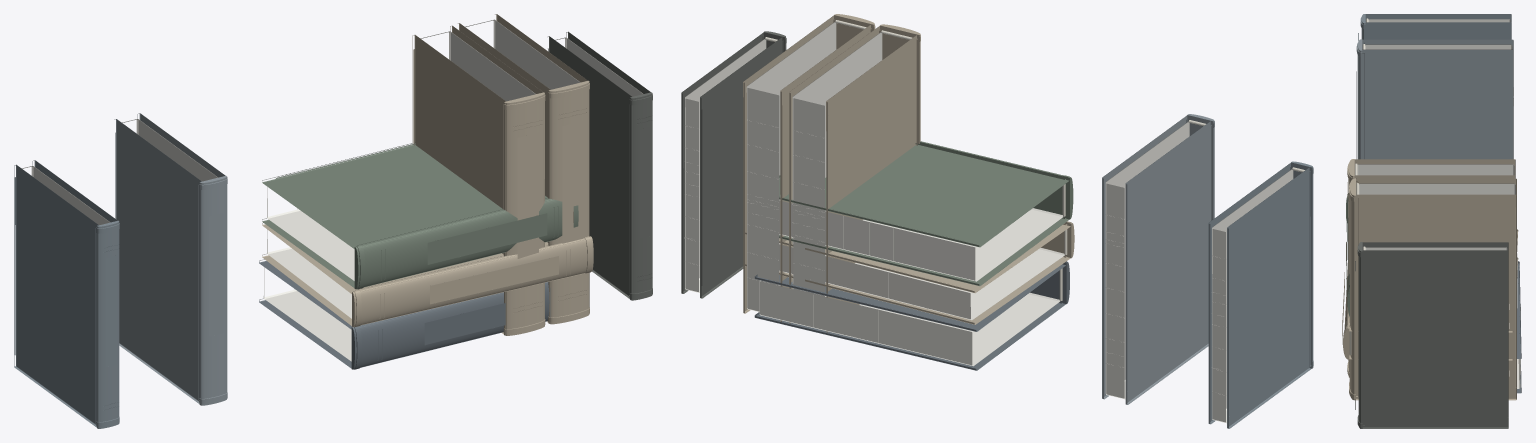
Rendered from X14_LRS1953_BOOKS_S00_bk2.glb.
3 views of the same model, side by side, from view 1: azimuth 30°, elevation 25°; view 2: azimuth 150°, elevation 25°; view 3: azimuth 270°, elevation 25° (orthographic). The views are drawn at different scales.
Parts seen in each view (by area): view 1: S03_LEGISLATIVE_ACTIVE_A_S03_LEGISLATIVE_ACTIVE_B05_book_01_ (×5), S03_LEGISLATIVE_ACTIVE_A_S03_LEGISLATIVE_ACTIVE_B08_book_05_ (×5), S03_LEGISLATIVE_ACTIVE_A_S03_LEGISLATIVE_ACTIVE_B03_book_03_ (×6), S03_LEGISLATIVE_ACTIVE_A_S03_LEGISLATIVE_ACTIVE_B09_book_05_ (×5), S03_LEGISLATIVE_ACTIVE_A_S03_LEGISLATIVE_ACTIVE_B12_book_03_ (×5), S03_LEGISLATIVE_ACTIVE_A_S03_LEGISLATIVE_ACTIVE_B07_book_02_ (×5), S03_LEGISLATIVE_ACTIVE_A_S03_LEGISLATIVE_ACTIVE_B10_book_05_ (×5), S03_LEGISLATIVE_ACTIVE_A_S03_LEGISLATIVE_ACTIVE_B06_book_05_ (×5); view 2: S03_LEGISLATIVE_ACTIVE_A_S03_LEGISLATIVE_ACTIVE_B05_book_01_ (×3), S03_LEGISLATIVE_ACTIVE_A_S03_LEGISLATIVE_ACTIVE_B08_book_05_ (×4), S03_LEGISLATIVE_ACTIVE_A_S03_LEGISLATIVE_ACTIVE_B03_book_03_ (×4), S03_LEGISLATIVE_ACTIVE_A_S03_LEGISLATIVE_ACTIVE_B09_book_05_ (×4), S03_LEGISLATIVE_ACTIVE_A_S03_LEGISLATIVE_ACTIVE_B12_book_03_ (×3), S03_LEGISLATIVE_ACTIVE_A_S03_LEGISLATIVE_ACTIVE_B06_book_05_ (×4), S03_LEGISLATIVE_ACTIVE_A_S03_LEGISLATIVE_ACTIVE_B10_book_05_ (×4), S03_LEGISLATIVE_ACTIVE_A_S03_LEGISLATIVE_ACTIVE_B07_book_02_ (×3); view 3: S03_LEGISLATIVE_ACTIVE_A_S03_LEGISLATIVE_ACTIVE_B12_book_03_ (×7), S03_LEGISLATIVE_ACTIVE_A_S03_LEGISLATIVE_ACTIVE_B05_book_01_ (×7), S03_LEGISLATIVE_ACTIVE_A_S03_LEGISLATIVE_ACTIVE_B10_book_05_ (×7), S03_LEGISLATIVE_ACTIVE_A_S03_LEGISLATIVE_ACTIVE_B03_book_03_ (×3), S03_LEGISLATIVE_ACTIVE_A_S03_LEGISLATIVE_ACTIVE_B09_book_05_ (×4), S03_LEGISLATIVE_ACTIVE_A_S03_LEGISLATIVE_ACTIVE_B07_book_02_, S03_LEGISLATIVE_ACTIVE_A_S03_LEGISLATIVE_ACTIVE_B06_book_05_, S03_LEGISLATIVE_ACTIVE_A_S03_LEGISLATIVE_ACTIVE_B08_book_05_.
Part boxes in pixels (x1=…): S03_LEGISLATIVE_ACTIVE_A_S03_LEGISLATIVE_ACTIVE_B05_book_01_ (×5): x1=114, y1=113, x2=227, y2=405; S03_LEGISLATIVE_ACTIVE_A_S03_LEGISLATIVE_ACTIVE_B08_book_05_ (×5): x1=262, y1=143, x2=562, y2=289; S03_LEGISLATIVE_ACTIVE_A_S03_LEGISLATIVE_ACTIVE_B03_book_03_ (×6): x1=14, y1=160, x2=119, y2=428; S03_LEGISLATIVE_ACTIVE_A_S03_LEGISLATIVE_ACTIVE_B09_book_05_ (×5): x1=412, y1=25, x2=544, y2=335; S03_LEGISLATIVE_ACTIVE_A_S03_LEGISLATIVE_ACTIVE_B12_book_03_ (×5): x1=548, y1=31, x2=652, y2=300; S03_LEGISLATIVE_ACTIVE_A_S03_LEGISLATIVE_ACTIVE_B07_book_02_ (×5): x1=262, y1=223, x2=593, y2=327; S03_LEGISLATIVE_ACTIVE_A_S03_LEGISLATIVE_ACTIVE_B10_book_05_ (×5): x1=458, y1=14, x2=589, y2=324; S03_LEGISLATIVE_ACTIVE_A_S03_LEGISLATIVE_ACTIVE_B06_book_05_ (×5): x1=259, y1=259, x2=549, y2=369; S03_LEGISLATIVE_ACTIVE_A_S03_LEGISLATIVE_ACTIVE_B05_book_01_ (×3): x1=1102, y1=115, x2=1214, y2=404; S03_LEGISLATIVE_ACTIVE_A_S03_LEGISLATIVE_ACTIVE_B08_book_05_ (×4): x1=779, y1=141, x2=1073, y2=286; S03_LEGISLATIVE_ACTIVE_A_S03_LEGISLATIVE_ACTIVE_B03_book_03_ (×4): x1=1208, y1=161, x2=1313, y2=428; S03_LEGISLATIVE_ACTIVE_A_S03_LEGISLATIVE_ACTIVE_B09_book_05_ (×4): x1=789, y1=24, x2=920, y2=332; S03_LEGISLATIVE_ACTIVE_A_S03_LEGISLATIVE_ACTIVE_B12_book_03_ (×3): x1=681, y1=32, x2=782, y2=298; S03_LEGISLATIVE_ACTIVE_A_S03_LEGISLATIVE_ACTIVE_B06_book_05_ (×4): x1=754, y1=261, x2=1069, y2=370; S03_LEGISLATIVE_ACTIVE_A_S03_LEGISLATIVE_ACTIVE_B10_book_05_ (×4): x1=743, y1=14, x2=874, y2=321; S03_LEGISLATIVE_ACTIVE_A_S03_LEGISLATIVE_ACTIVE_B07_book_02_ (×3): x1=745, y1=224, x2=1070, y2=324; S03_LEGISLATIVE_ACTIVE_A_S03_LEGISLATIVE_ACTIVE_B12_book_03_ (×7): x1=1358, y1=242, x2=1508, y2=428; S03_LEGISLATIVE_ACTIVE_A_S03_LEGISLATIVE_ACTIVE_B05_book_01_ (×7): x1=1357, y1=39, x2=1513, y2=159; S03_LEGISLATIVE_ACTIVE_A_S03_LEGISLATIVE_ACTIVE_B10_book_05_ (×7): x1=1349, y1=178, x2=1516, y2=400; S03_LEGISLATIVE_ACTIVE_A_S03_LEGISLATIVE_ACTIVE_B03_book_03_ (×3): x1=1365, y1=14, x2=1511, y2=39; S03_LEGISLATIVE_ACTIVE_A_S03_LEGISLATIVE_ACTIVE_B09_book_05_ (×4): x1=1348, y1=159, x2=1515, y2=371; S03_LEGISLATIVE_ACTIVE_A_S03_LEGISLATIVE_ACTIVE_B07_book_02_: x1=1344, y1=263, x2=1349, y2=359; S03_LEGISLATIVE_ACTIVE_A_S03_LEGISLATIVE_ACTIVE_B06_book_05_: x1=1517, y1=261, x2=1521, y2=358; S03_LEGISLATIVE_ACTIVE_A_S03_LEGISLATIVE_ACTIVE_B08_book_05_: x1=1347, y1=198, x2=1349, y2=315.
Size of the model in its own units: 0.5678 by 0.228 by 0.1809.
